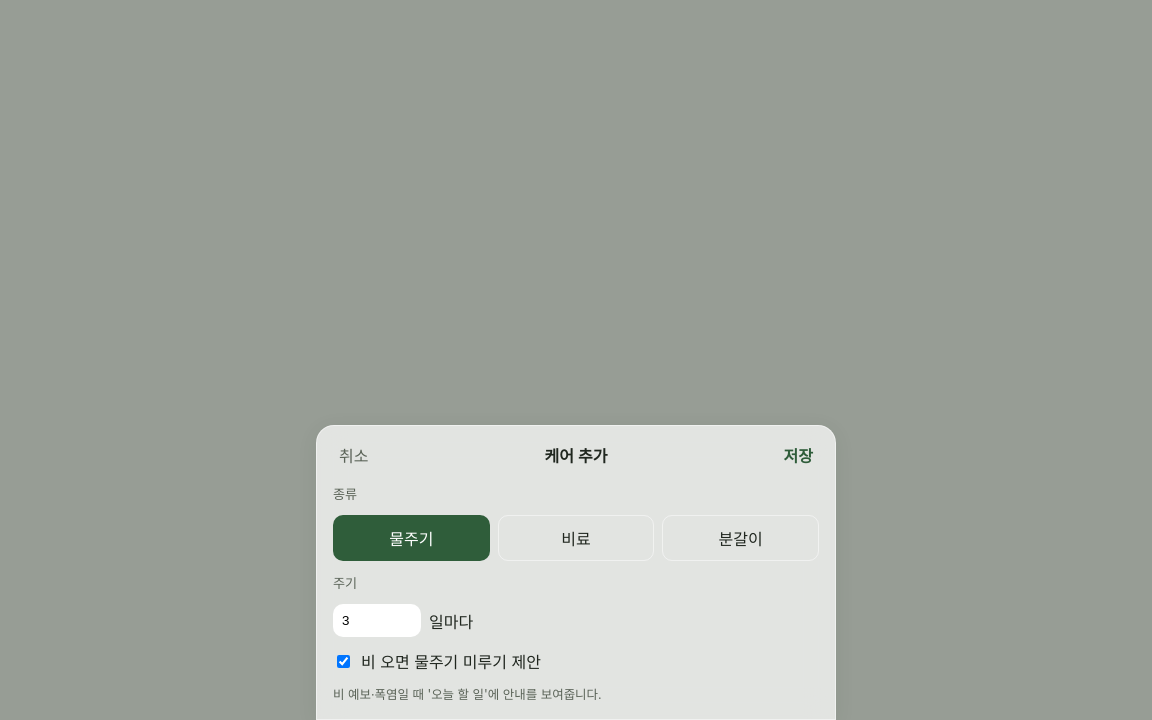
it: CareRuleSheet (추가) › 물주기일 때만 날씨 토글 노출
Expected: the text "비 오면 물주기 미루기 제안" is shown, [361,649,541,673]
What coordinates should you click on to do the following:
click the button "분갈이"
I would click on:
 (741, 538)
Its box is [662,515,819,561].
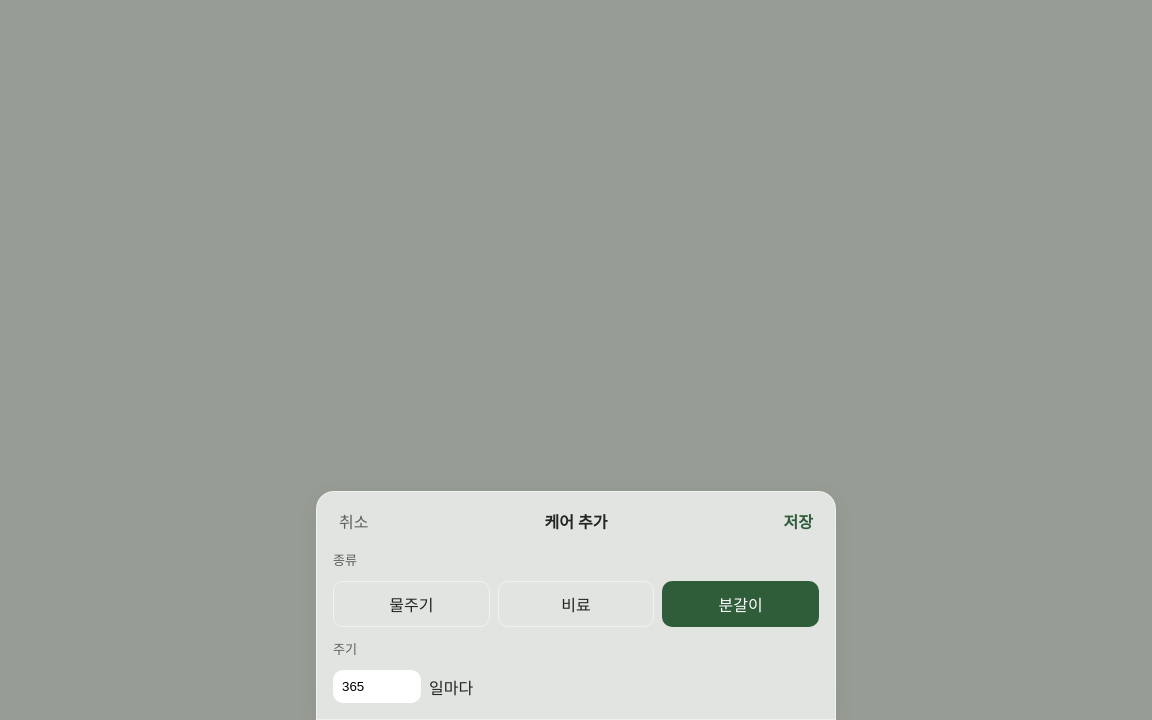
Now the text "비 오면 물주기 미루기" is gone
